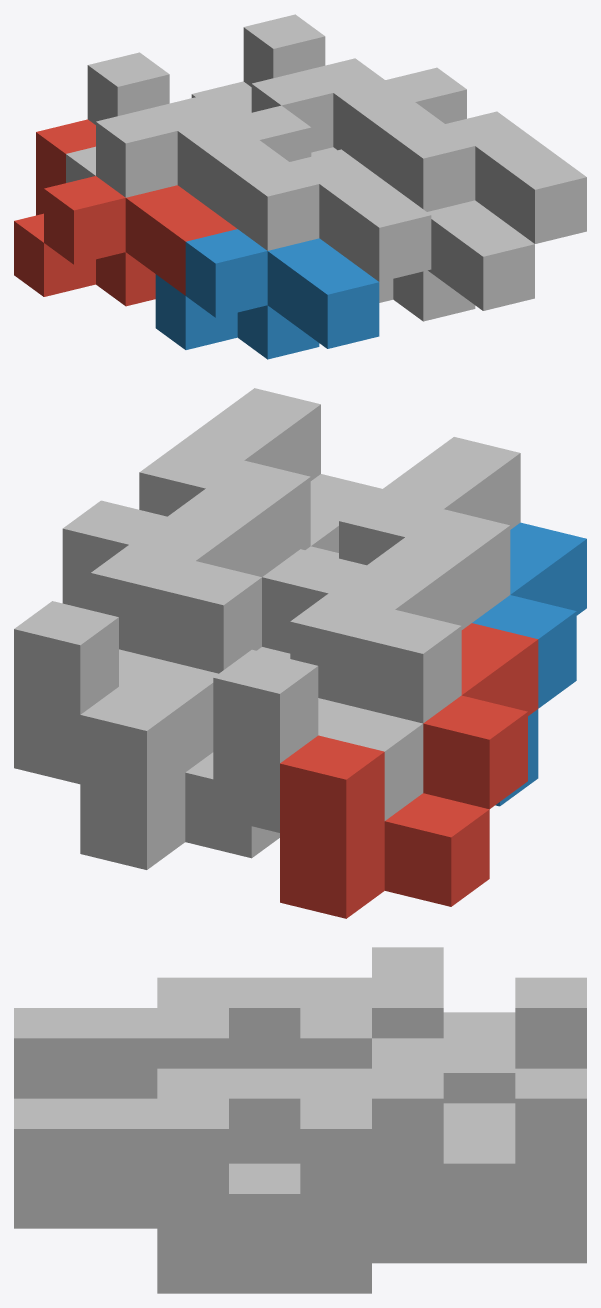
Rendered from tiling.obj.
3 renders of one model, top to bottom at view 1: azimuth 30°, elevation 25°; view 2: azimuth 150°, elevation 25°; view 3: azimuth 270°, elevation 25°, orthographic. The views are drawn at different scales.
Parts seen in each view (by area): view 1: copy_1_domain_1, copy_1_domain_2, copy_1_domain_4, copy_1_domain_8, copy_1_domain_3, copy_1_domain_7, copy_1_domain_6, copy_1_domain_5; view 2: copy_1_domain_3, copy_1_domain_7, copy_1_domain_1, copy_1_domain_8, copy_1_domain_4, copy_1_domain_5, copy_1_domain_2, copy_1_domain_6; view 3: copy_1_domain_8, copy_1_domain_7, copy_1_domain_3, copy_1_domain_4, copy_1_domain_6, copy_1_domain_5.
Part boxes in pixels (x1,y1,x2,y2): copy_1_domain_1: (14,119,236,306); copy_1_domain_2: (155,229,379,359); copy_1_domain_4: (230,105,431,281); copy_1_domain_8: (385,67,586,243); copy_1_domain_3: (66,52,288,228); copy_1_domain_7: (225,14,444,186); copy_1_domain_6: (379,200,534,321); copy_1_domain_5: (191,81,336,156); copy_1_domain_3: (213,537,471,832); copy_1_domain_7: (14,488,272,784); copy_1_domain_1: (280,623,538,918); copy_1_domain_8: (62,388,320,610); copy_1_domain_4: (262,437,520,653); copy_1_domain_5: (80,647,290,869); copy_1_domain_2: (472,522,586,806); copy_1_domain_6: (305,474,381,558); copy_1_domain_8: (14,1068,371,1258); copy_1_domain_7: (229,1038,586,1228); copy_1_domain_3: (229,947,586,1103); copy_1_domain_4: (14,977,371,1098); copy_1_domain_6: (14,1194,371,1293); copy_1_domain_5: (372,1228,586,1263).
Size of the model in its own units: 7 by 3 by 8.
